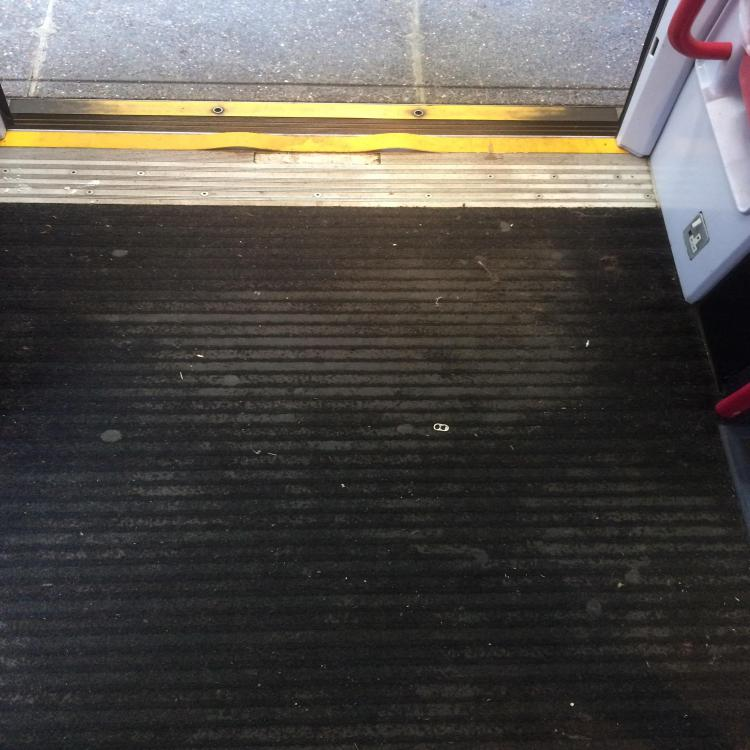Pop tab: (434, 424, 449, 431)
